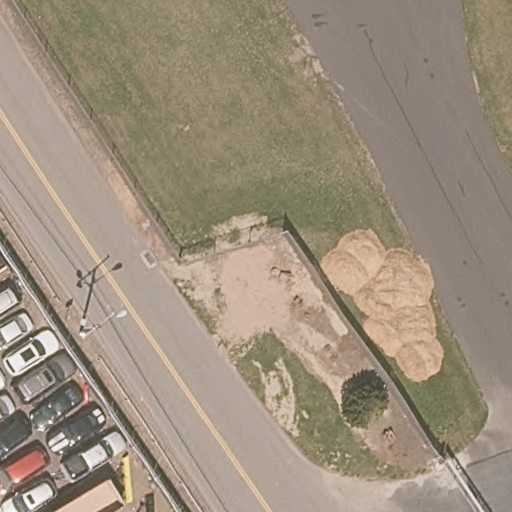DT: (77, 310, 116, 340)
